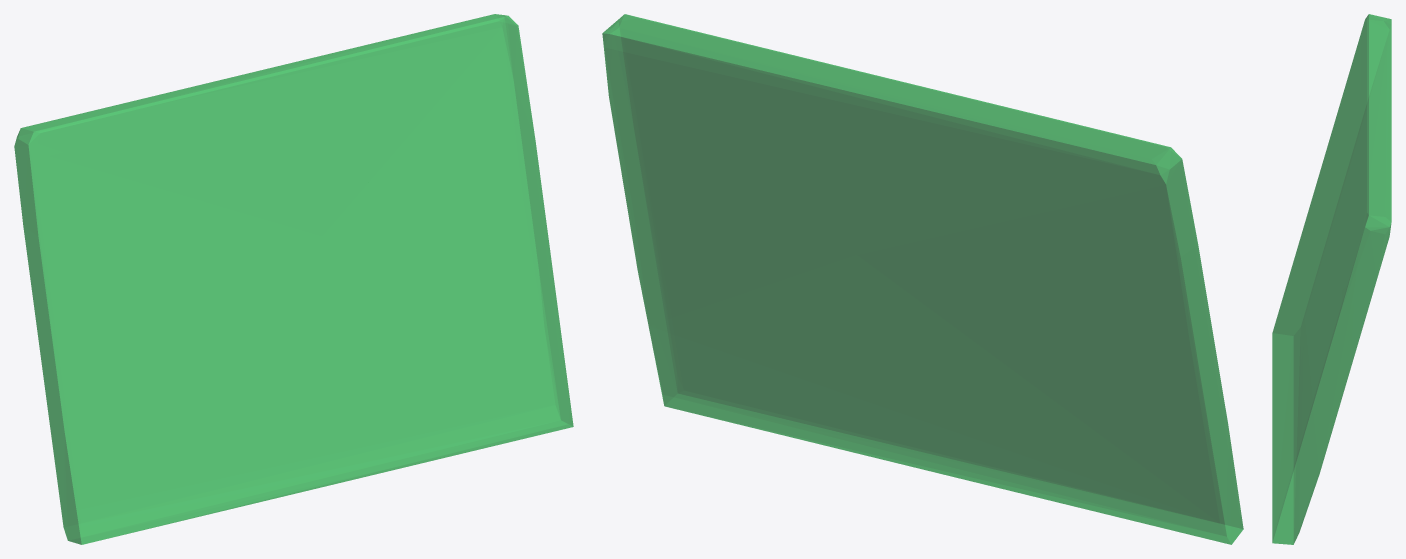
The picture shows the model from 3 angles, left to right: view 1: azimuth 30°, elevation 25°; view 2: azimuth 150°, elevation 25°; view 3: azimuth 270°, elevation 25°; orthographic projection. The views are drawn at different scales.
Parts seen in each view (by area): view 1: Shape_IndexedFaceSet.001_Shape_IndexedFaceSet.17096; view 2: Shape_IndexedFaceSet.001_Shape_IndexedFaceSet.17096; view 3: Shape_IndexedFaceSet.001_Shape_IndexedFaceSet.17096.
Boxes of the visible parts, box(x1,y1,x2,y2) form: Shape_IndexedFaceSet.001_Shape_IndexedFaceSet.17096: box(14, 14, 573, 544); Shape_IndexedFaceSet.001_Shape_IndexedFaceSet.17096: box(602, 14, 1243, 544); Shape_IndexedFaceSet.001_Shape_IndexedFaceSet.17096: box(1272, 14, 1391, 544).
Bounding box in the file's own units: 1.16 × 0.843 × 0.2792.
